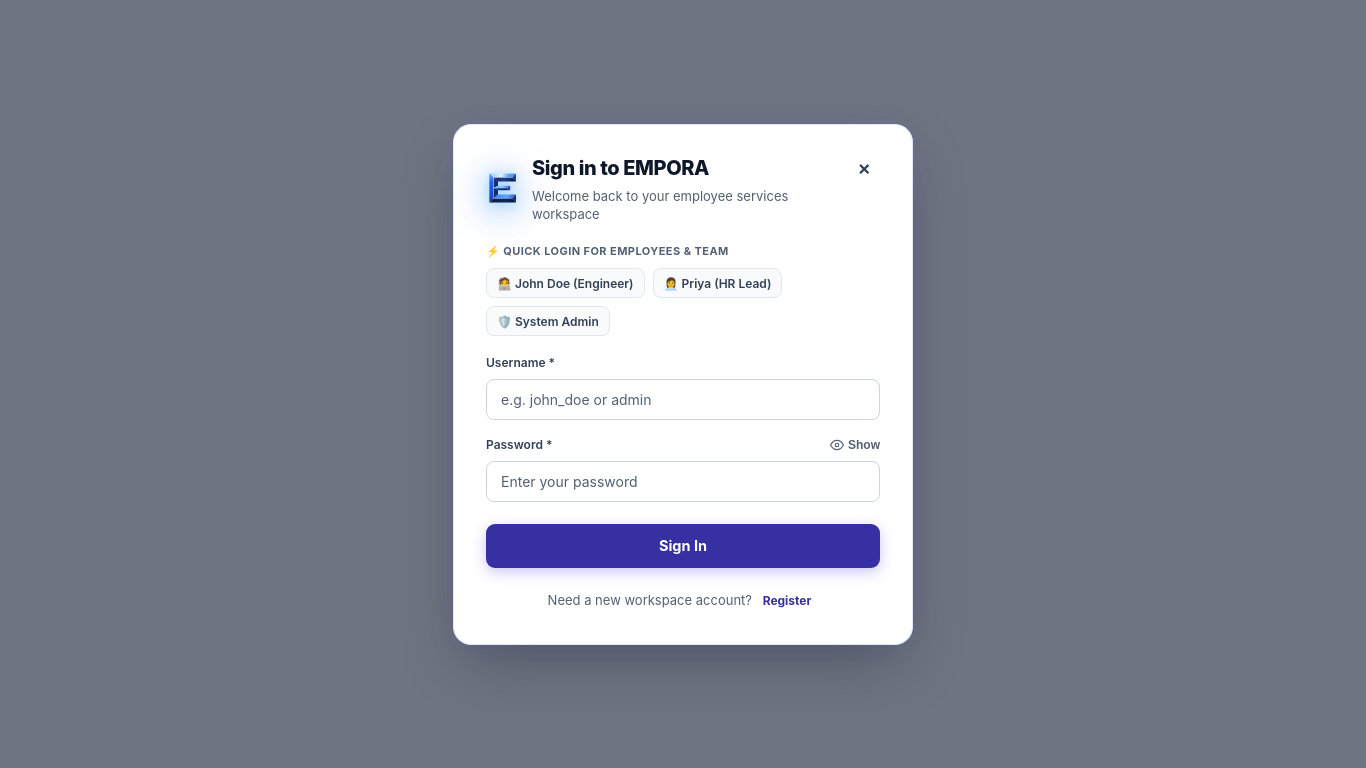
P9.6.1 Critical Frontend Workflow & Branch Coverage Suite › ServiceCatalog, MyTickets & Notifications workflows › QA-DEF-007 regression: LoginModal keeps role=alert visible after submitting resets to false on failed login
The image size is (1366, 768).
Type "john_doe" into the field labelled "Username *" at coordinates (683, 399), box [486, 379, 880, 420]
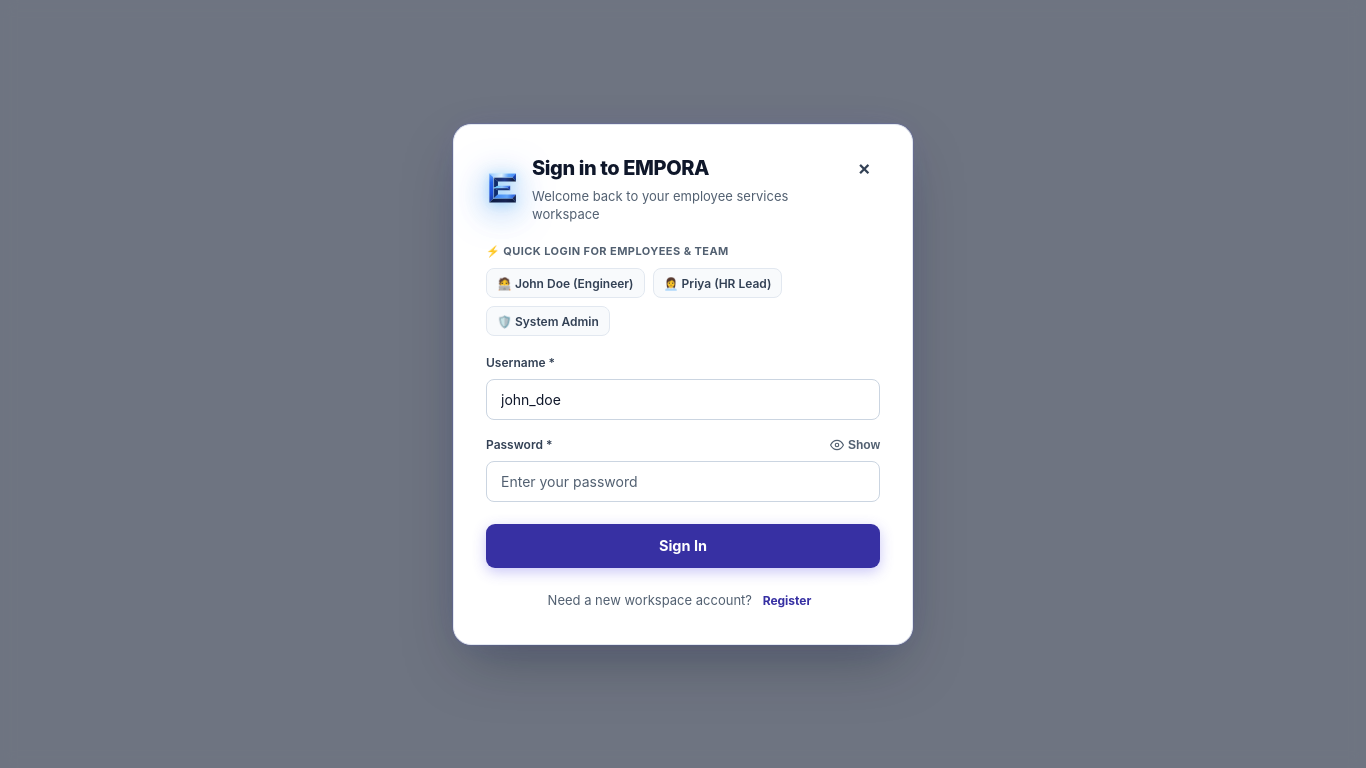
Type "wrongpass" into the password field labelled "Password *" at coordinates (683, 481), box [486, 460, 880, 501]
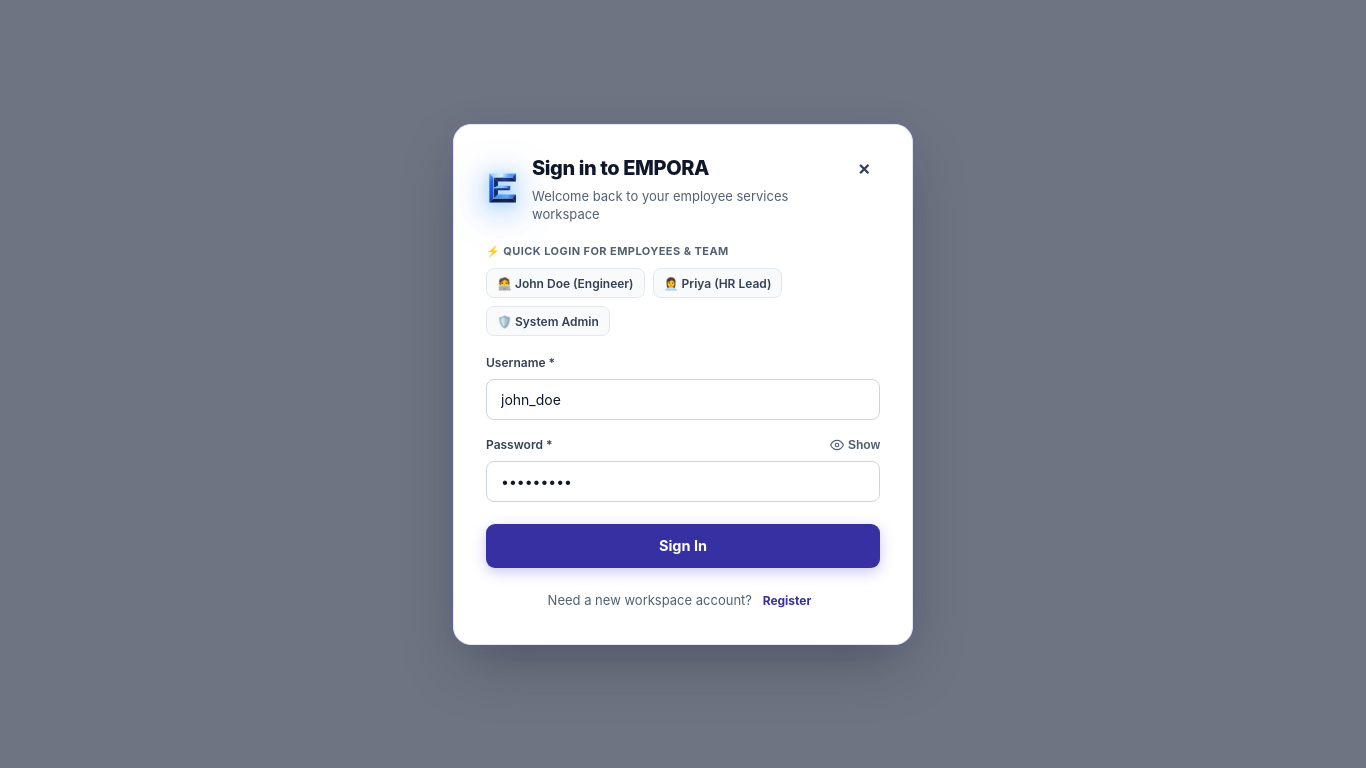
Click the button "Sign In" at coordinates (683, 545), box [486, 523, 880, 567]
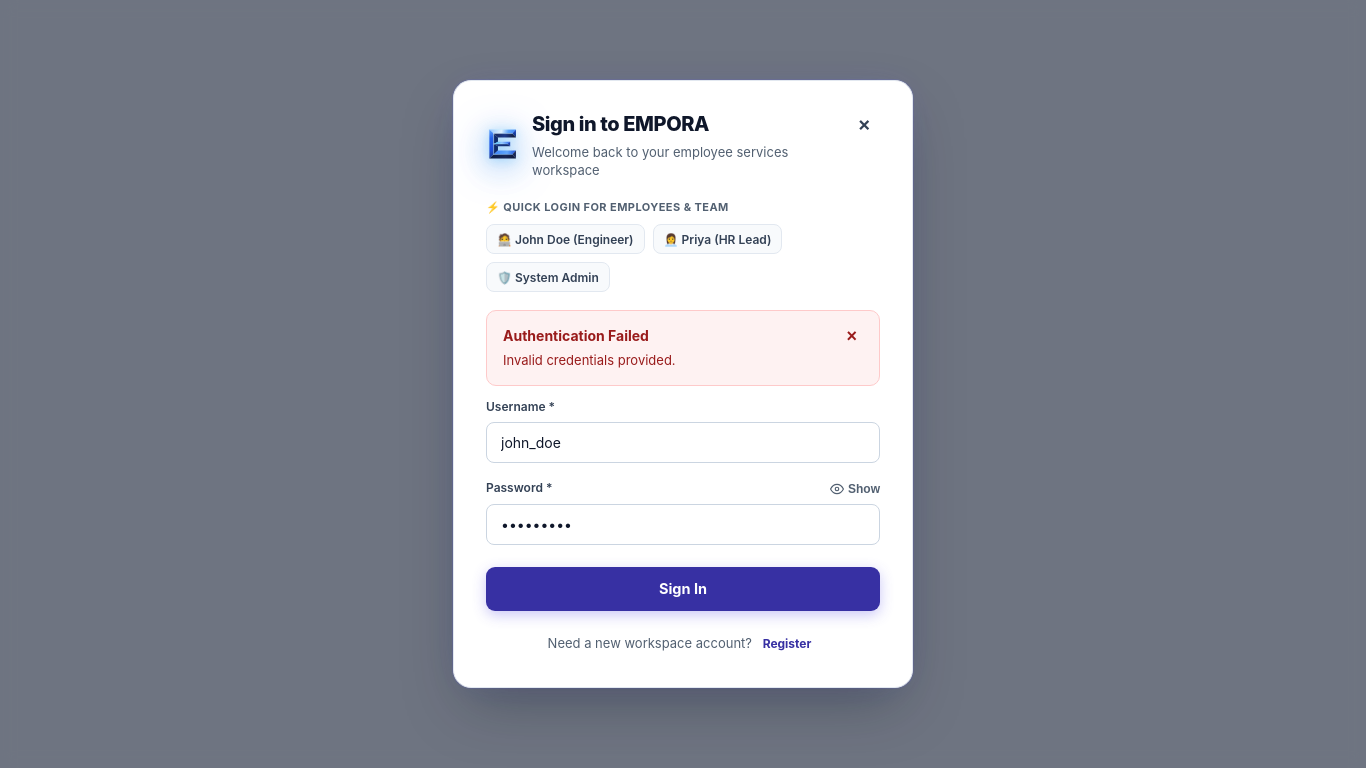
Expected: the button "Sign In" is enabled, [486, 567, 880, 611]
Now the message shows "Invalid credentials provided", box [503, 352, 676, 368]
